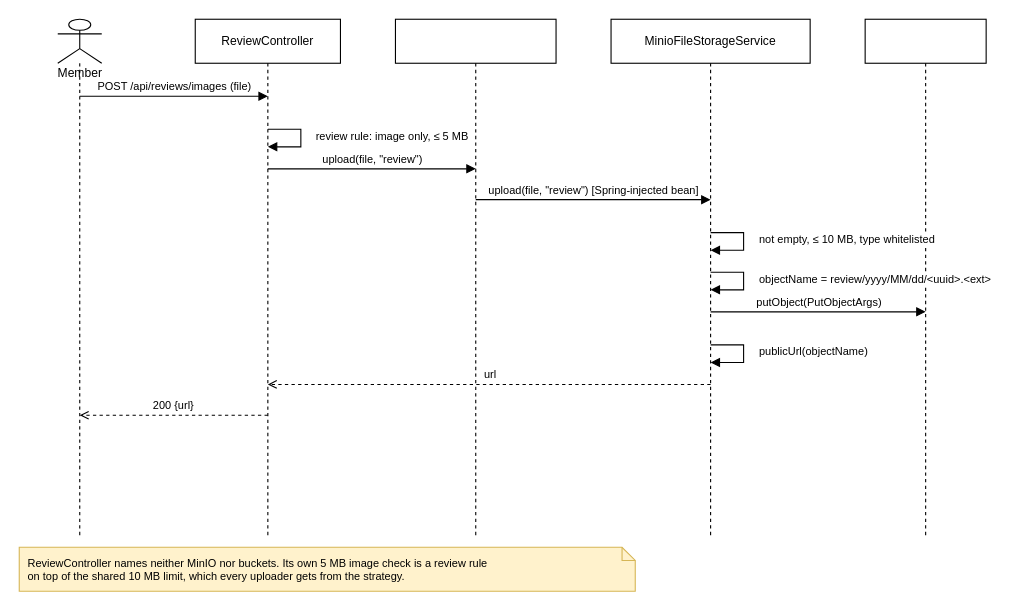
This 1010x611 diagram has some shape labels left out. Here are the shapes that lost their labels. From the top down, the box of each, then its label:
(394, 18, 556, 536): FileStorageService
(864, 18, 986, 536): MinioClient
